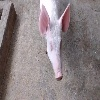heo: (38, 1, 72, 83)
